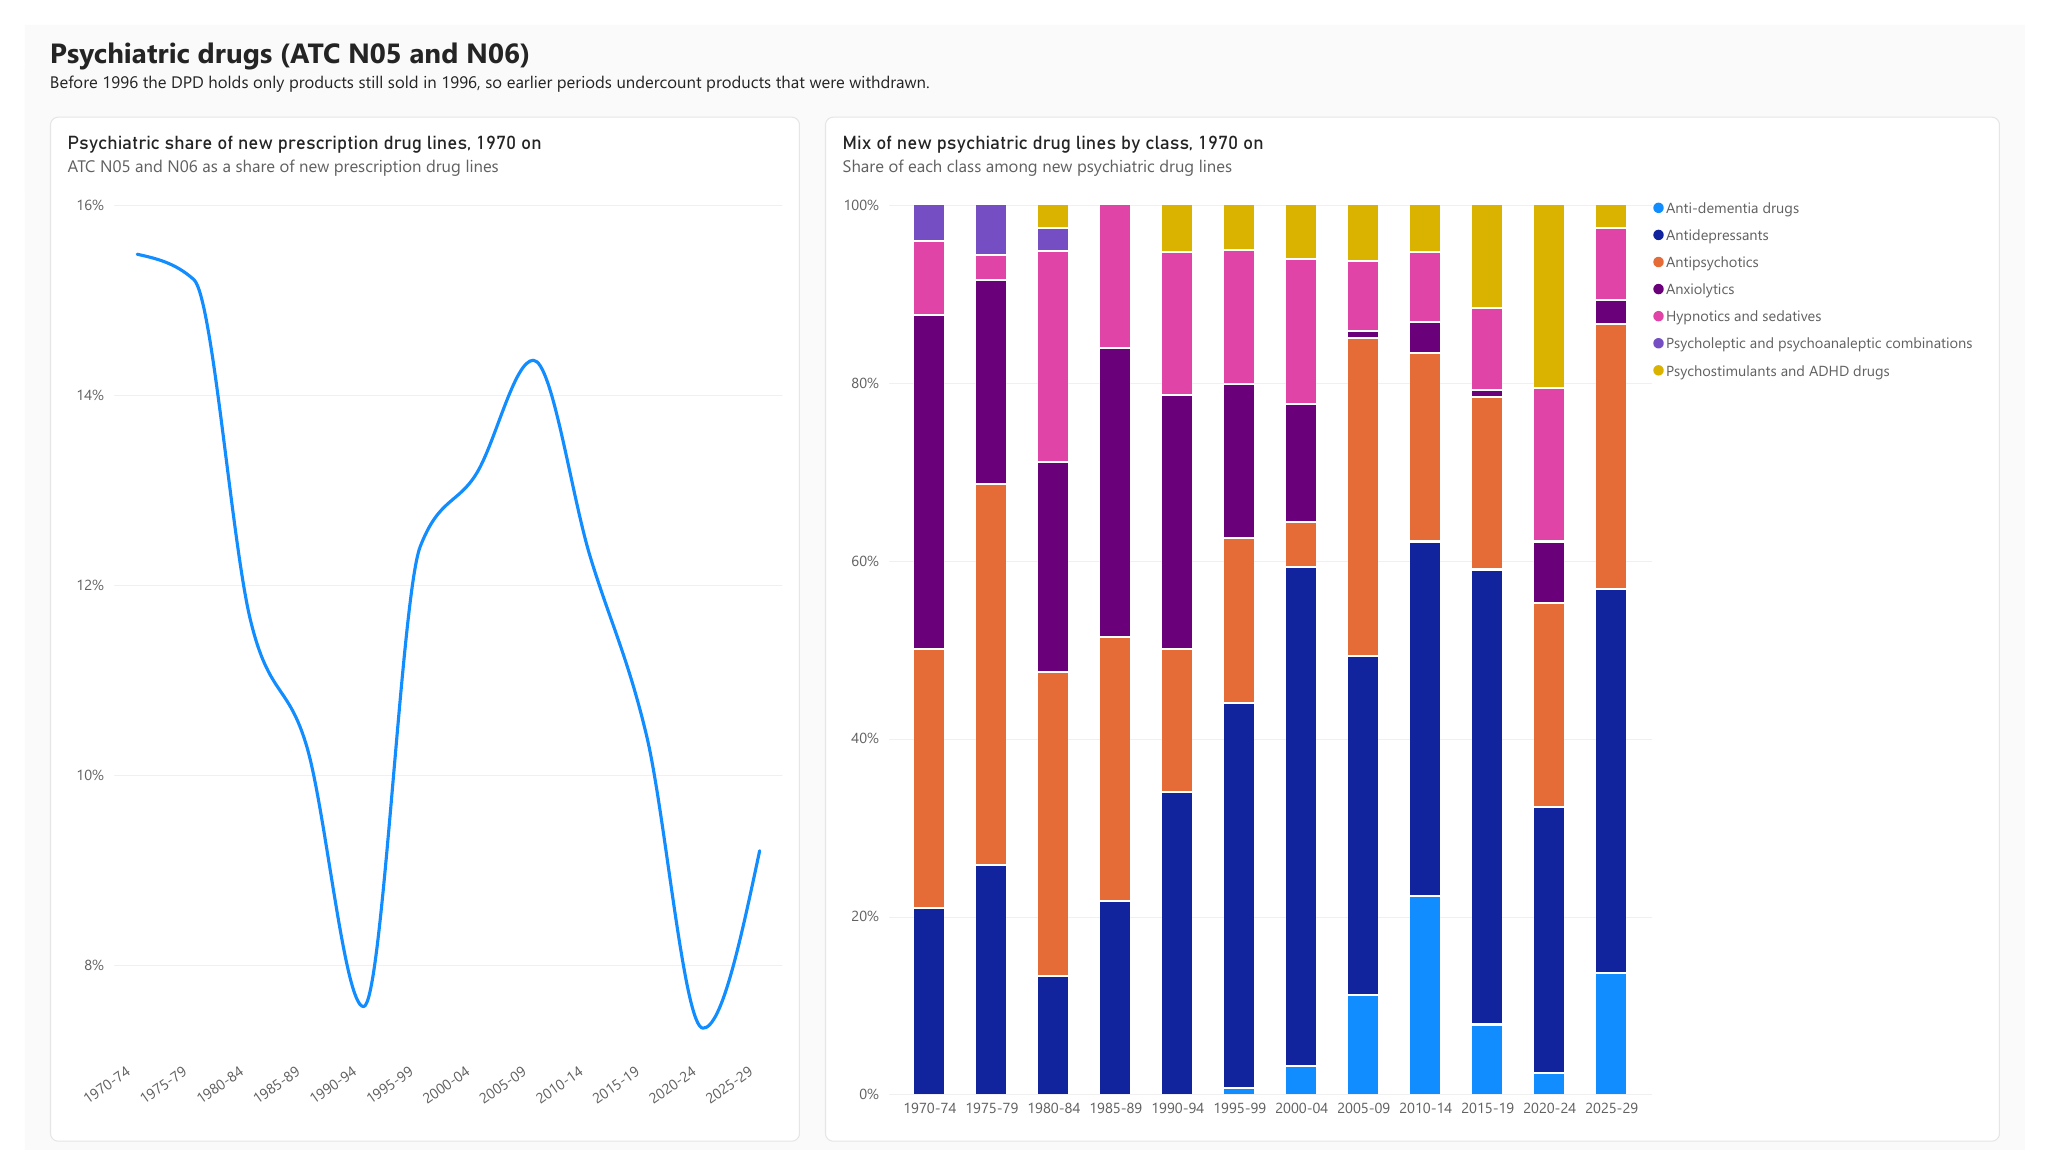

The dashboard page shown, as its layout file describes it:
{"tool":"powerbi","page":{"name":"Psychiatric Drugs","canvas":[1920,1080],"ordinal":2},"visuals":[{"type":"textbox","box":[24,8,1872,72],"z":0},{"type":"lineChart","title":"Psychiatric share of new prescription drug lines, 1970 on","fields":{"Category":["Date.Period"],"Y":["_Measures.Psych Share of Rx Lines"]},"box":[24,88,720,984],"z":1},{"type":"hundredPercentStackedColumnChart","title":"Mix of new psychiatric drug lines by class, 1970 on","fields":{"Category":["Date.Period"],"Series":["psych_class.psych_class"],"Y":["_Measures.Class Share of Psych Lines"]},"box":[768,88,1128,984],"z":2}]}

Visuals, with their boxes in screenshot pixels (x1, y1, x2, y2), scaled from the page's 1920x1080 canvas onto the 2050x1175 screenshot:
textbox: (26, 9, 2024, 87)
"Psychiatric share of new prescription drug lines, 1970 on" lineChart: (26, 96, 794, 1166)
"Mix of new psychiatric drug lines by class, 1970 on" hundredPercentStackedColumnChart: (820, 96, 2024, 1166)
